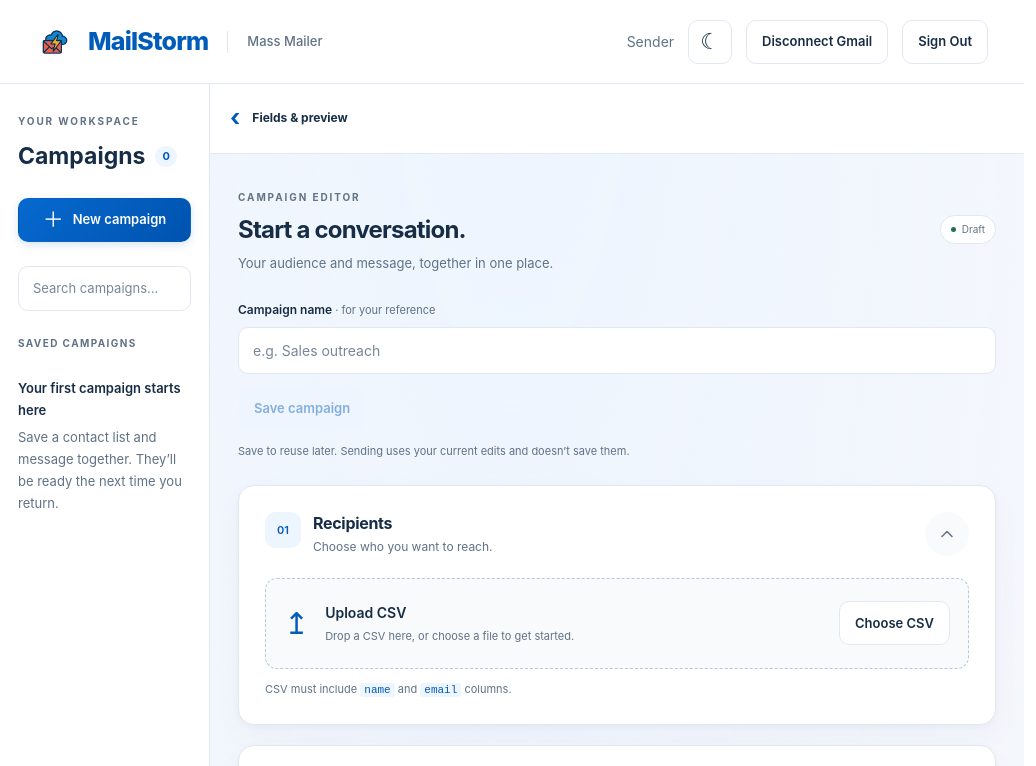
Test: lost disconnect response rechecks the server before allowing another send
The image size is (1036, 766).
Click the button "Disconnect Gmail" at (817, 42), box [746, 20, 888, 64]
(page scrolled)
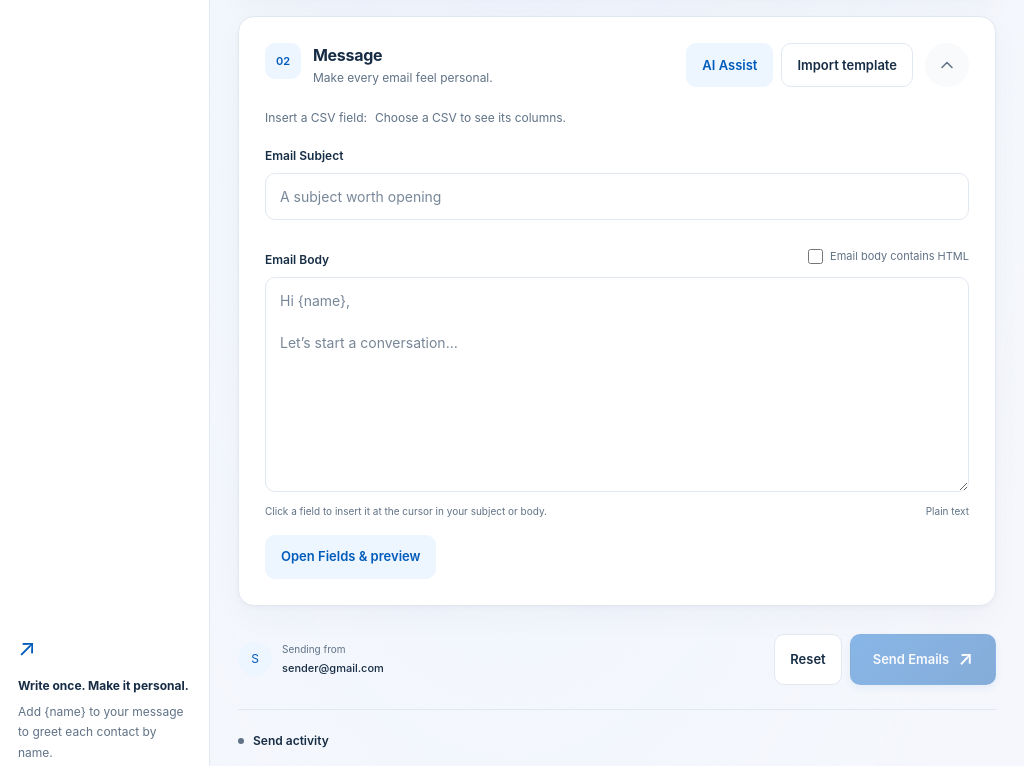
Expected: the text box labelled "Email Body" is enabled, [265, 277, 969, 492]
Now the button "Send Emails ↗" is disabled, box [850, 634, 996, 685]
